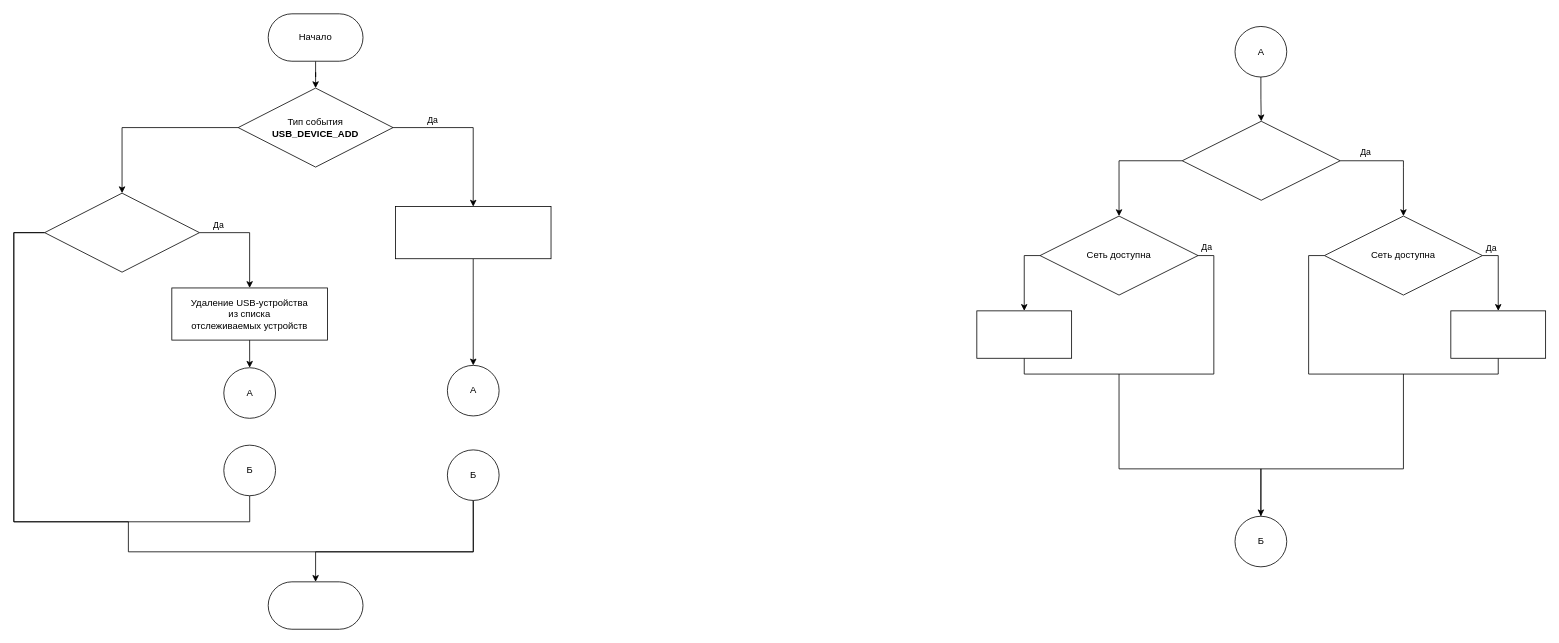
Some shapes in this 1559 by 643 pixel diagram are drawn without their labels. Each missing label, with the centre of its shape:
"Включить сетевой драйвер" belongs at (1024,334).
"Выключить сетевой драйвер" belongs at (1498,334).
"Добавление USB-устройства в список отслеживаемых устройств" belongs at (473,232).
"Количество подключенных недопустимых устройств больше 0" belongs at (1260,160).
"Конец" belongs at (315,605).
"Тип события USB_DEVICE_REMOVE" belongs at (121,232).
